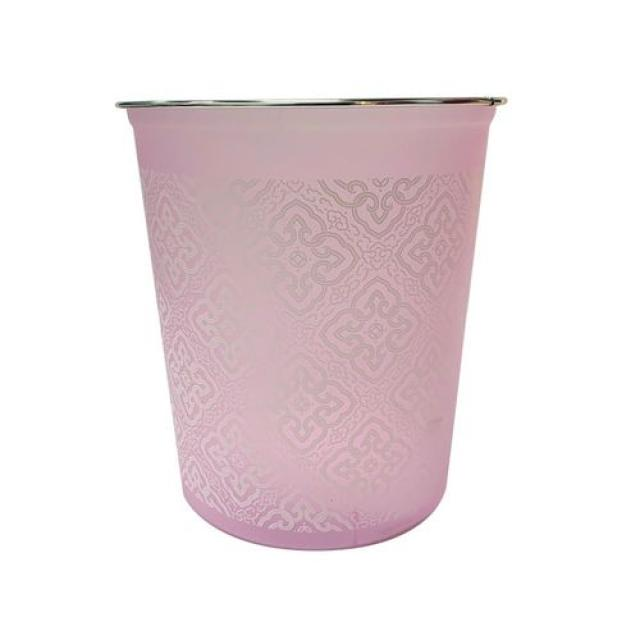dustbin: (106, 85, 516, 556)
